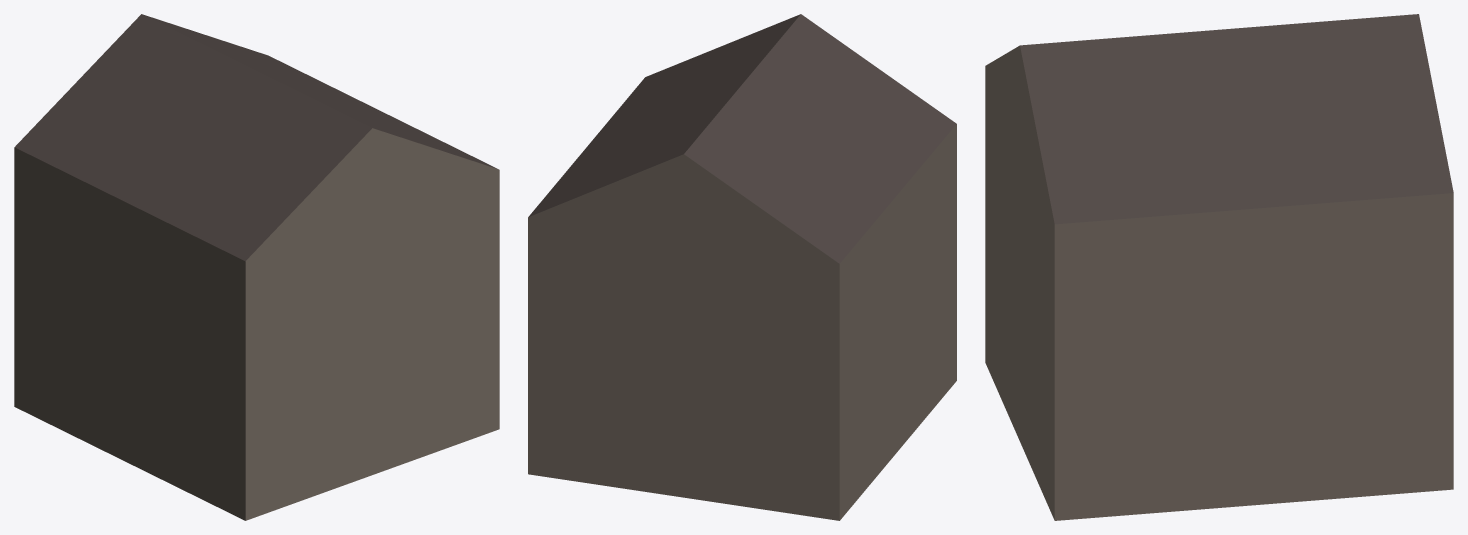
3 renders of one model, left to right at view 1: azimuth 30°, elevation 25°; view 2: azimuth 150°, elevation 25°; view 3: azimuth 270°, elevation 25°, orthographic. The views are drawn at different scales.
Visible parts, largest first — view 1: HP-w1365659919; view 2: HP-w1365659919; view 3: HP-w1365659919.
Part boxes in pixels (bbox=[...]): HP-w1365659919: bbox=[14, 14, 499, 520]; HP-w1365659919: bbox=[528, 14, 956, 520]; HP-w1365659919: bbox=[985, 14, 1453, 520].
Size of the model in its own units: 8.24 by 8.02 by 8.59.
